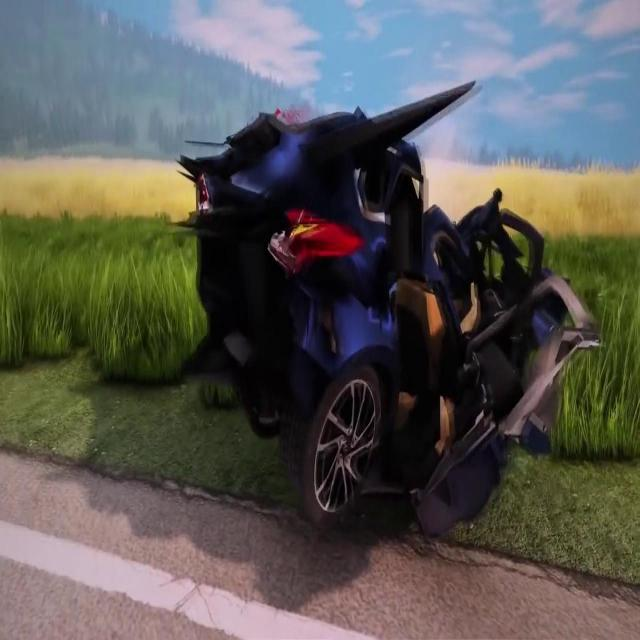accident: (176, 72, 596, 568)
